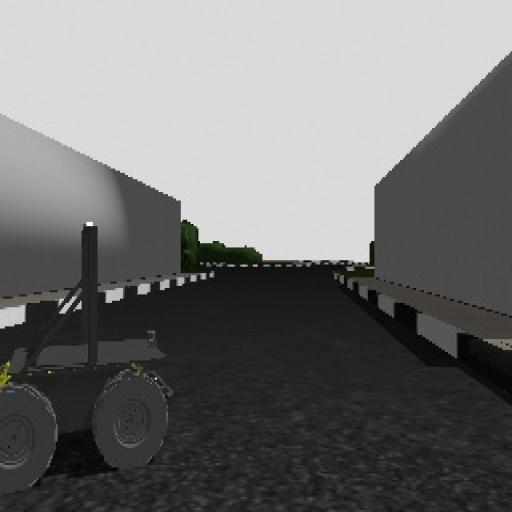huskya200: (0, 194, 190, 512)
